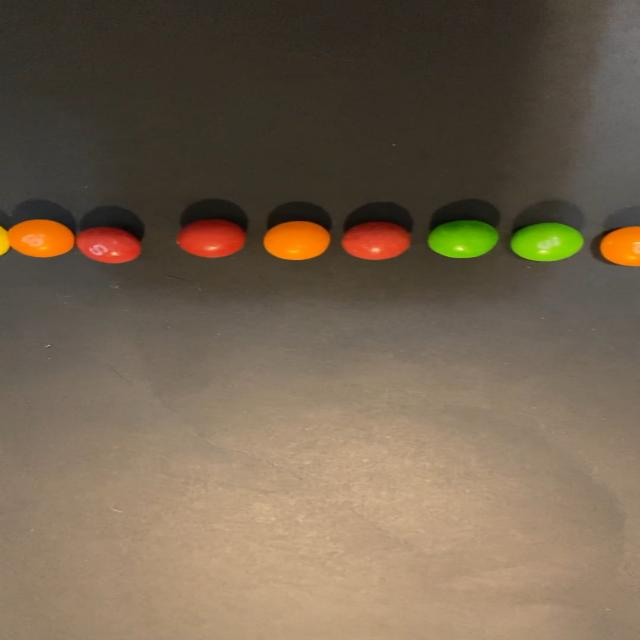smartie: (511, 222, 584, 261), (428, 220, 499, 258), (175, 219, 244, 258), (342, 222, 410, 260), (263, 221, 329, 260), (6, 219, 73, 257), (75, 226, 139, 263), (600, 226, 640, 266)
